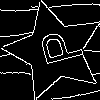P: (29, 26, 85, 70)
